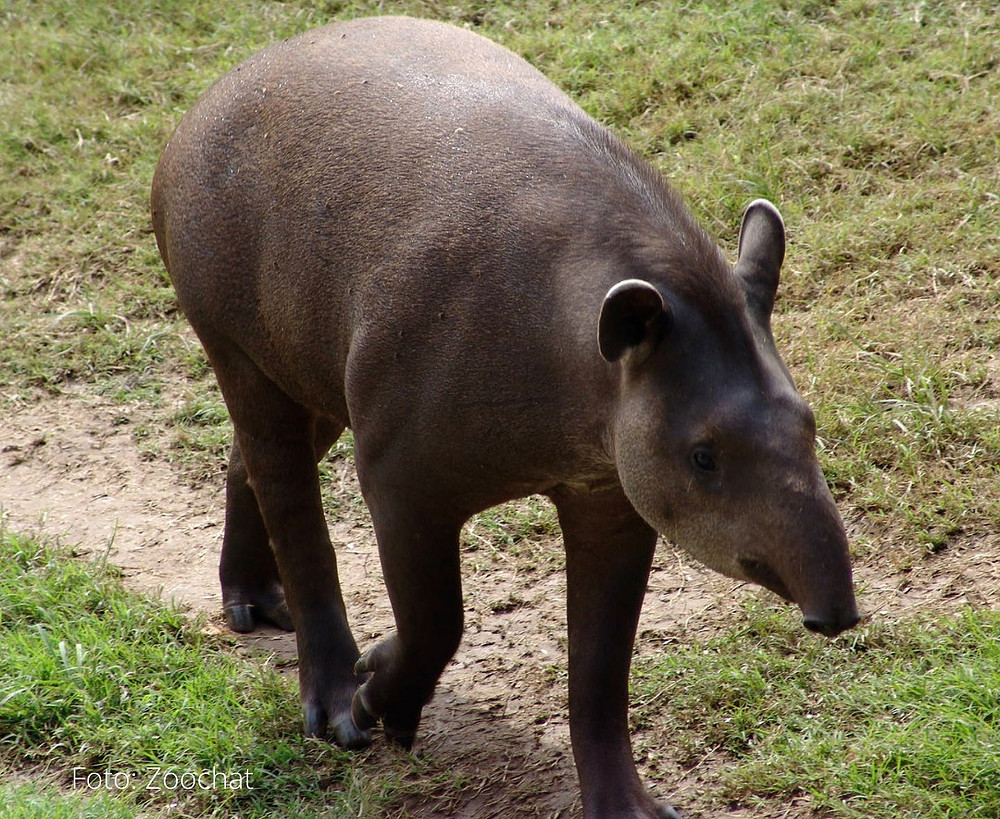Anta: (121, 8, 883, 790)
